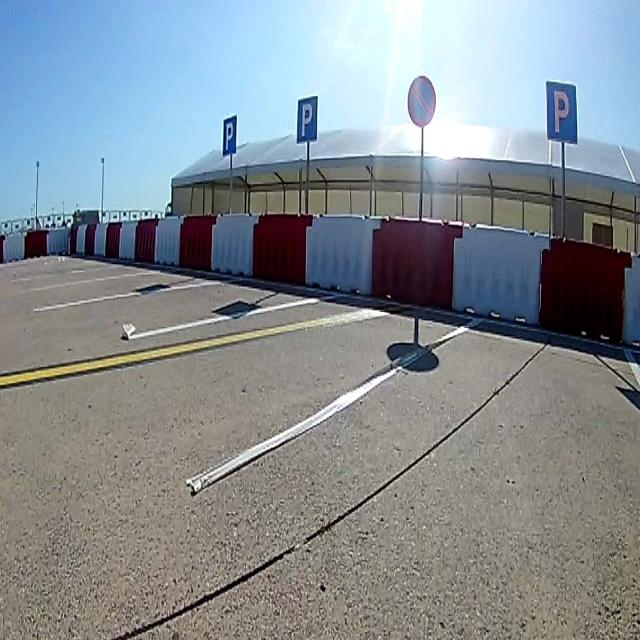park: (547, 80, 577, 144), (297, 97, 317, 141), (223, 114, 237, 154)
parkyasak: (409, 78, 436, 126)
